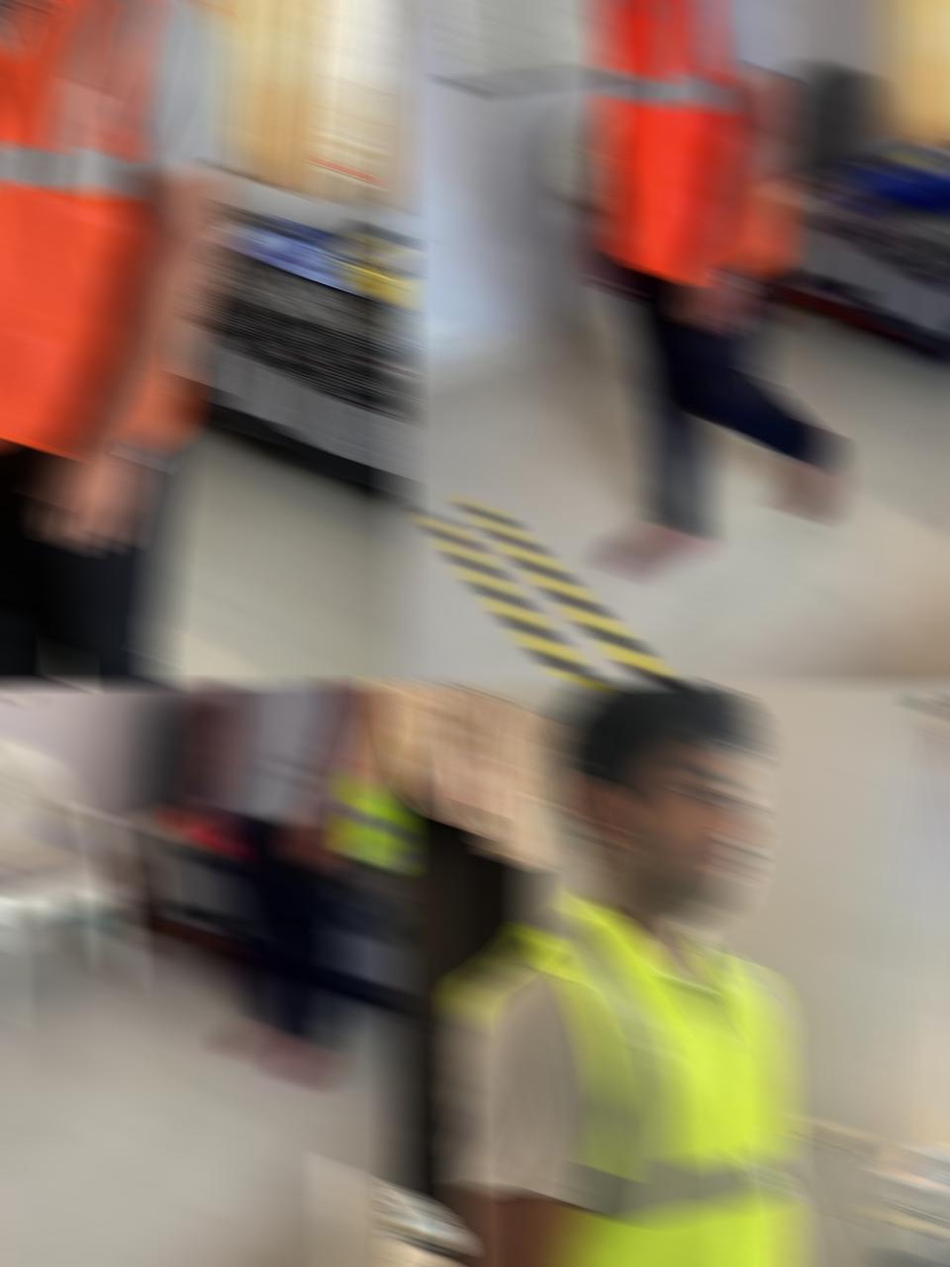BorderLine: (418, 494, 745, 686)
No_Helmet: (546, 682, 766, 866)
No_Vest: (199, 682, 390, 825)
Person: (439, 681, 831, 1267), (0, 0, 244, 686), (583, 0, 842, 579), (185, 682, 390, 1089)
Vest: (443, 887, 797, 1267), (0, 0, 223, 456), (592, 0, 789, 281)
